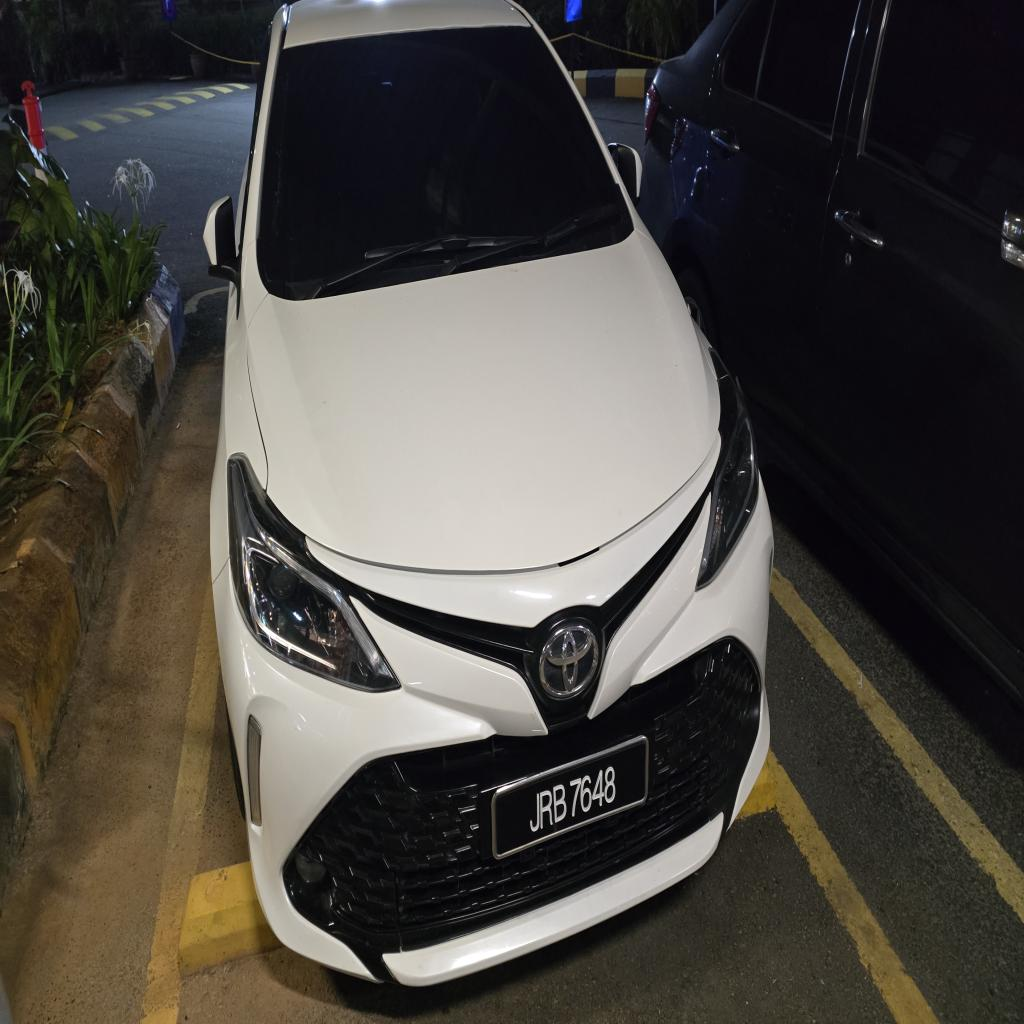car: (204, 0, 773, 984)
car plate: (491, 737, 647, 858)
